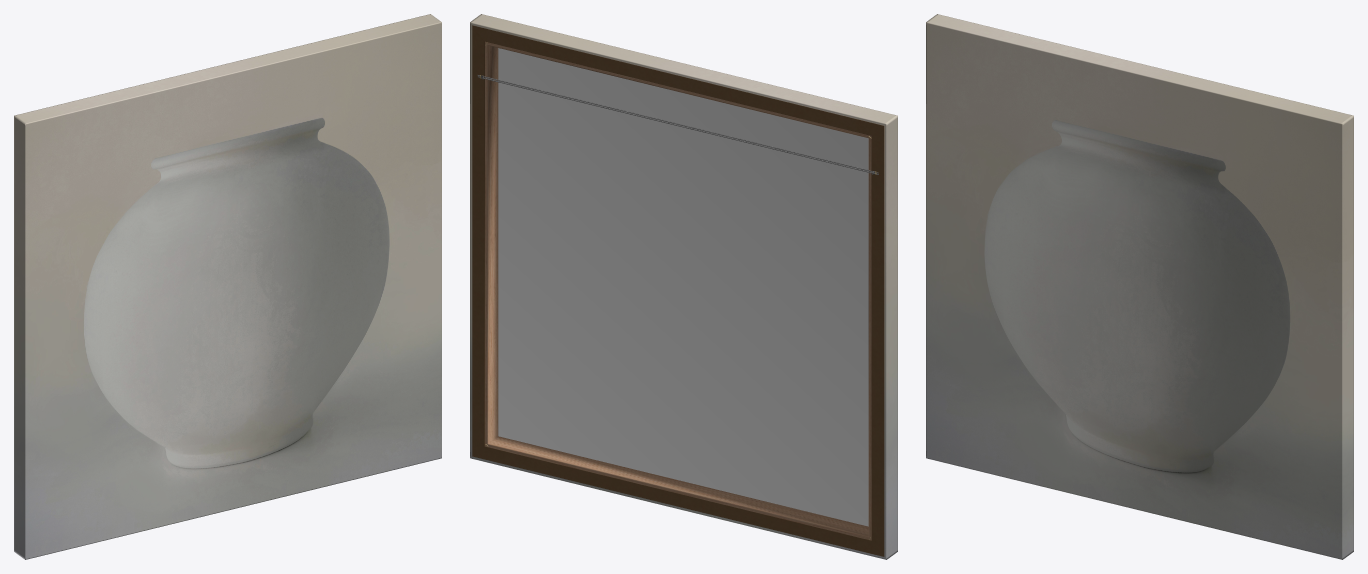
Rendered from wallart7847.glb.
3 renders of one model, left to right at view 1: azimuth 30°, elevation 25°; view 2: azimuth 150°, elevation 25°; view 3: azimuth 330°, elevation 25°, orthographic.
Visible parts, largest first — view 1: wallart7847; view 2: wallart7847; view 3: wallart7847.
Boxes of the visible parts, x1,y1,x2,y2 form: wallart7847: [14, 14, 441, 559]; wallart7847: [470, 14, 897, 559]; wallart7847: [926, 14, 1353, 559].
Size of the model in its own units: 0.5 by 0.5 by 0.025.
Materials: 1 (1 with a texture image).
